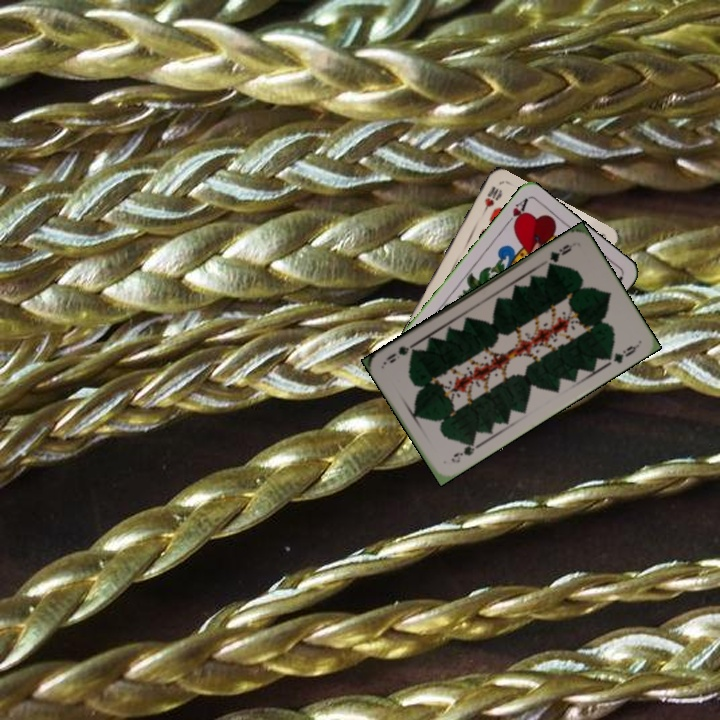G9: (447, 437, 481, 466), (544, 240, 575, 270)
H10: (477, 182, 503, 219)
HA: (500, 195, 530, 230)
